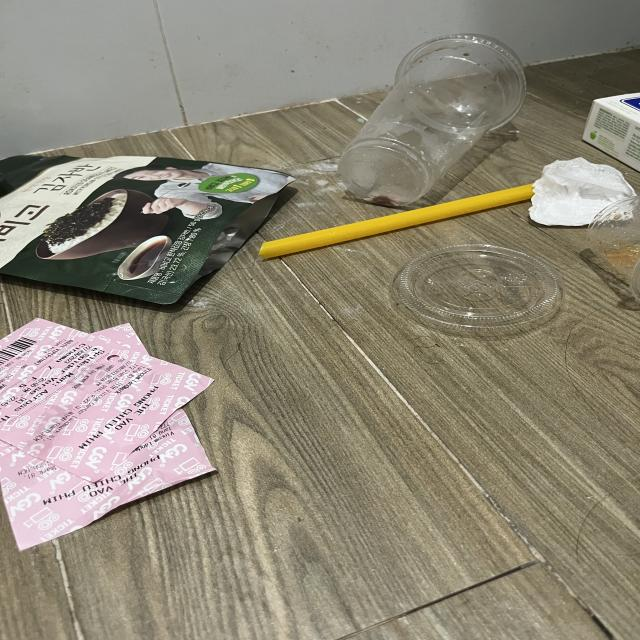drinking straw: (262, 179, 532, 260)
lid: (396, 244, 565, 329)
napkin: (528, 157, 632, 227)
paper: (0, 317, 216, 552)
plastic glass: (339, 33, 524, 206)
snack package: (0, 154, 296, 306)
